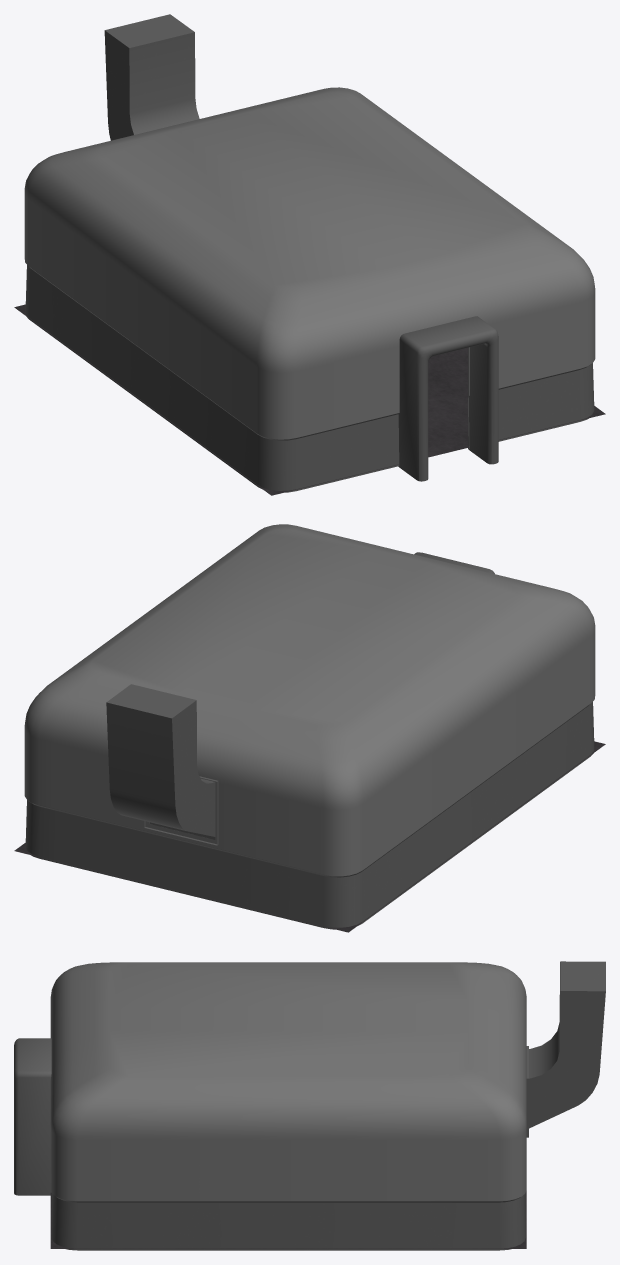
Rendered from RS_main_2.fbx.
The picture shows the model from 3 angles, top to bottom: view 1: azimuth 30°, elevation 25°; view 2: azimuth 150°, elevation 25°; view 3: azimuth 270°, elevation 25°; orthographic projection. The views are drawn at different scales.
Parts seen in each view (by area): view 1: RS_main_2; view 2: RS_main_2; view 3: RS_main_2.
Boxes of the visible parts, left/top/right/bottom form: RS_main_2: left=14, top=14, right=605, bottom=495; RS_main_2: left=14, top=524, right=605, bottom=932; RS_main_2: left=14, top=961, right=605, bottom=1250.
Size of the model in its own units: 600 by 371 by 995.
